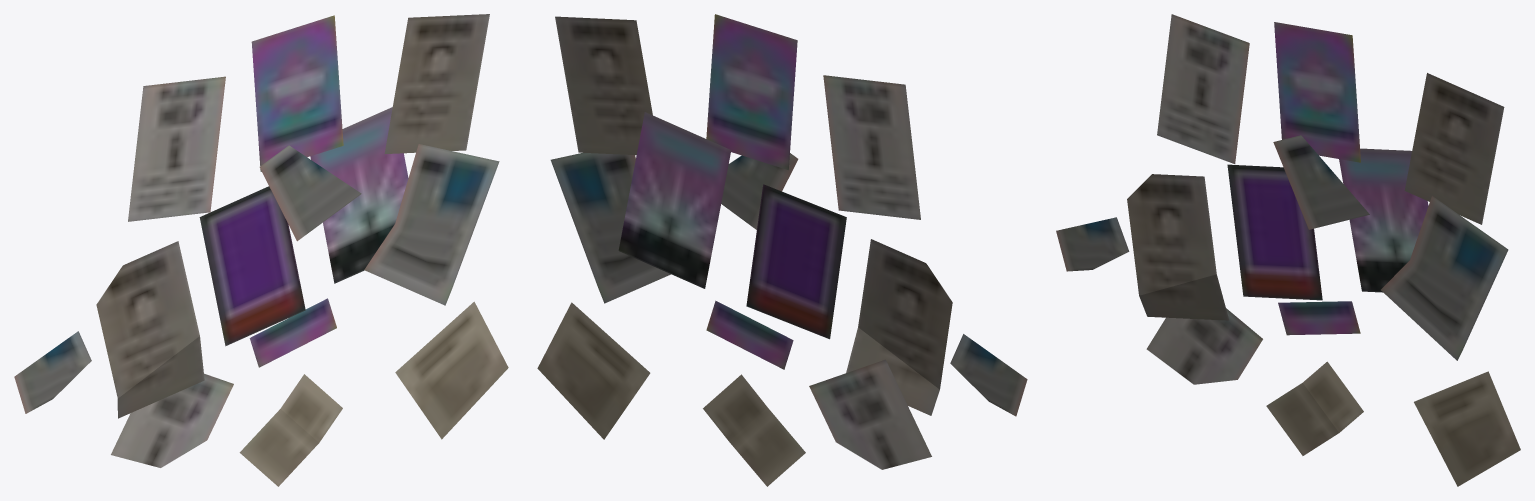
Rendered from papers.glb.
3 renders of one model, left to right at view 1: azimuth 30°, elevation 25°; view 2: azimuth 150°, elevation 25°; view 3: azimuth 330°, elevation 25°, orthographic. The views are drawn at different scales.
Parts seen in each view (by area): view 1: SM_Prop_Papers_01; view 2: SM_Prop_Papers_01; view 3: SM_Prop_Papers_01.
Boxes of the visible parts, bbox=[...] form: SM_Prop_Papers_01: bbox=[14, 14, 508, 486]; SM_Prop_Papers_01: bbox=[537, 14, 1027, 486]; SM_Prop_Papers_01: bbox=[1056, 14, 1520, 486].
Size of the model in its own units: 151 by 135 by 5.04.
1 material, 1 textured.
